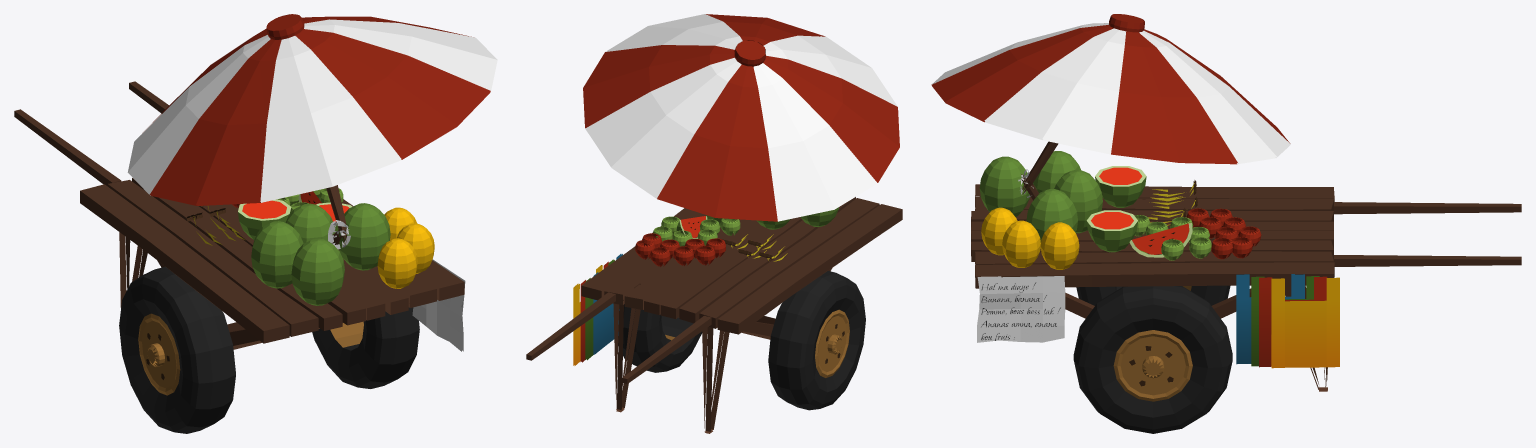
The model's file is Cart.fbx.
3 renders of one model, left to right at view 1: azimuth 30°, elevation 25°; view 2: azimuth 150°, elevation 25°; view 3: azimuth 270°, elevation 25°, orthographic. The views are drawn at different scales.
Parts seen in each view (by area): view 1: Prop; view 2: Prop; view 3: Prop.
Boxes of the visible parts, x1,y1,x2,y2 form: Prop: (14,14,497,433); Prop: (526,14,902,433); Prop: (931,14,1521,433).
Bounding box in the file's own units: 1.96 × 2.27 × 3.25.
Materials: 2 (2 with a texture image).
